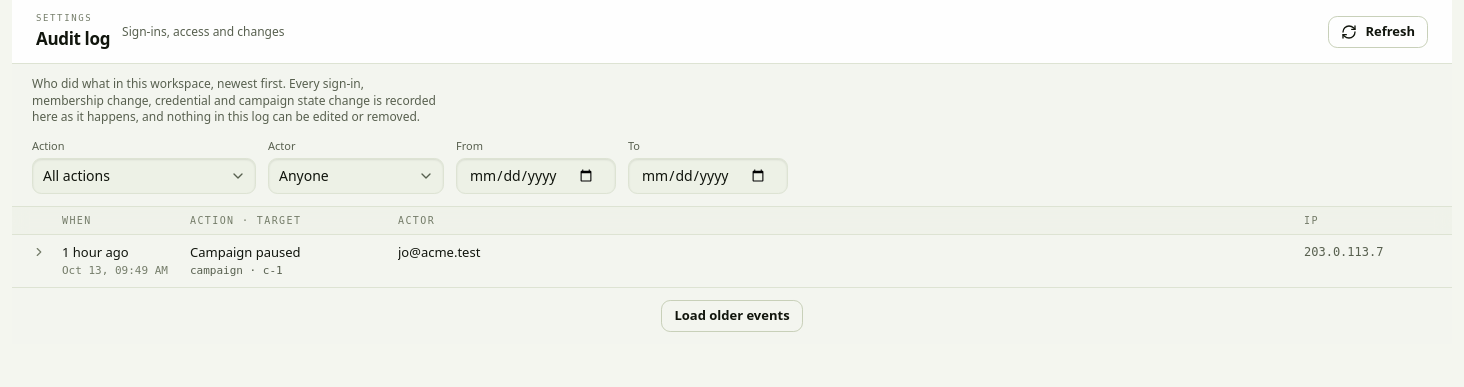
it: load more appends the next page by cursor and ends with an end-of-log marker
Click the button "Load older events" at [732, 316], box [661,300,803,332]
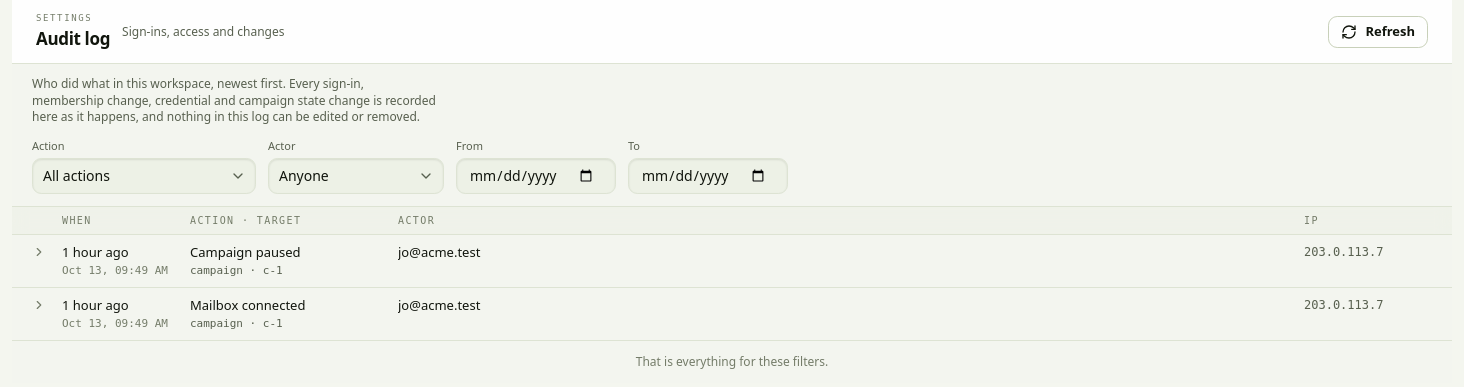
Expected: the text "Mailbox connected" is shown, [190,296,305,316]
Expected: the text "That is everything for these filters." is shown, [636,353,828,370]
Expected: the button "Load older events" is gone
